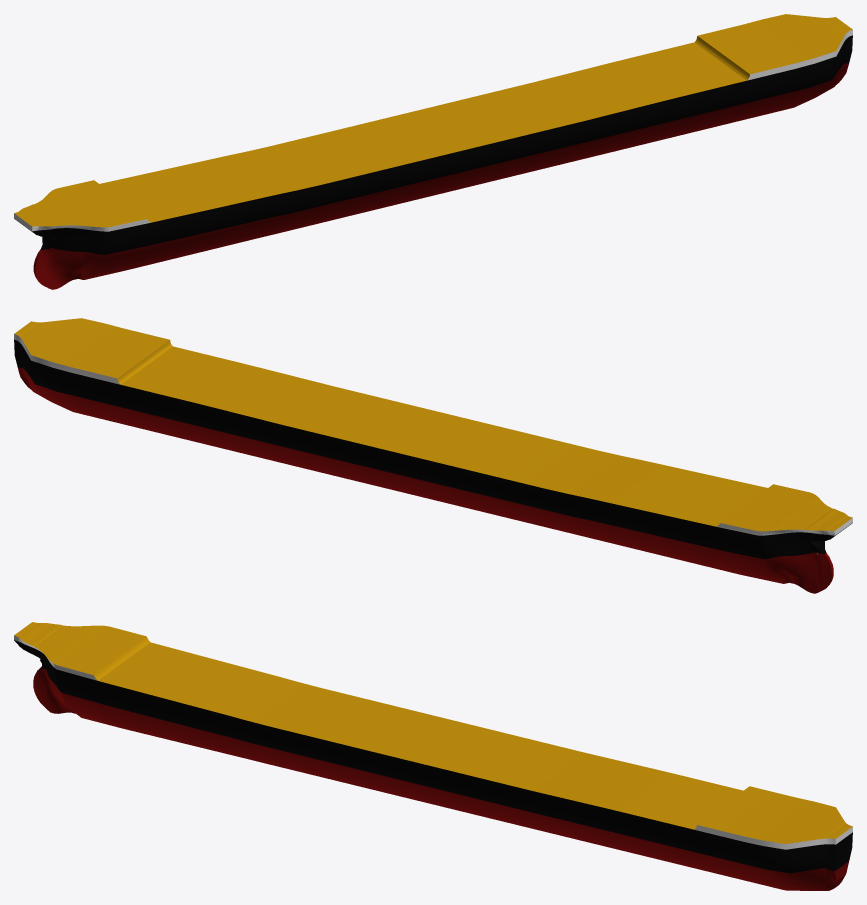
Rendered from Titanic_Bottom.fbx.
3 views of the same model, one above another, from view 1: azimuth 30°, elevation 25°; view 2: azimuth 150°, elevation 25°; view 3: azimuth 330°, elevation 25° (orthographic).
Parts seen in each view (by area): view 1: polySurface1; view 2: polySurface1; view 3: polySurface1.
Boxes of the visible parts, x1,y1,x2,y2 form: polySurface1: (14, 14, 852, 289); polySurface1: (14, 318, 852, 593); polySurface1: (14, 622, 852, 890).
Bounding box in the file's own units: 27.37 × 2.43 × 3.06.
